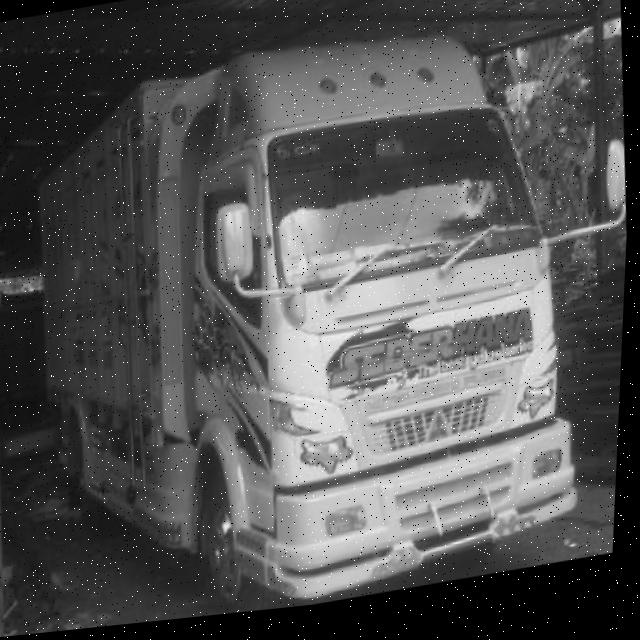truck: (129, 1, 640, 629)
